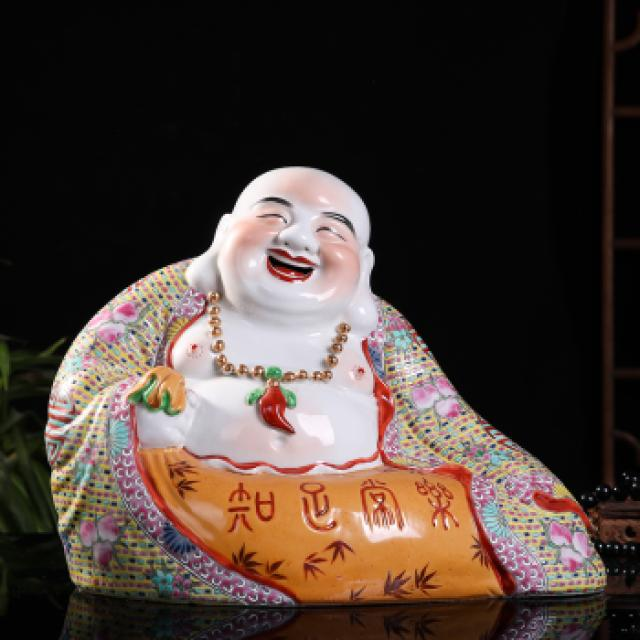Smiling Buddha: (137, 157, 407, 489)
